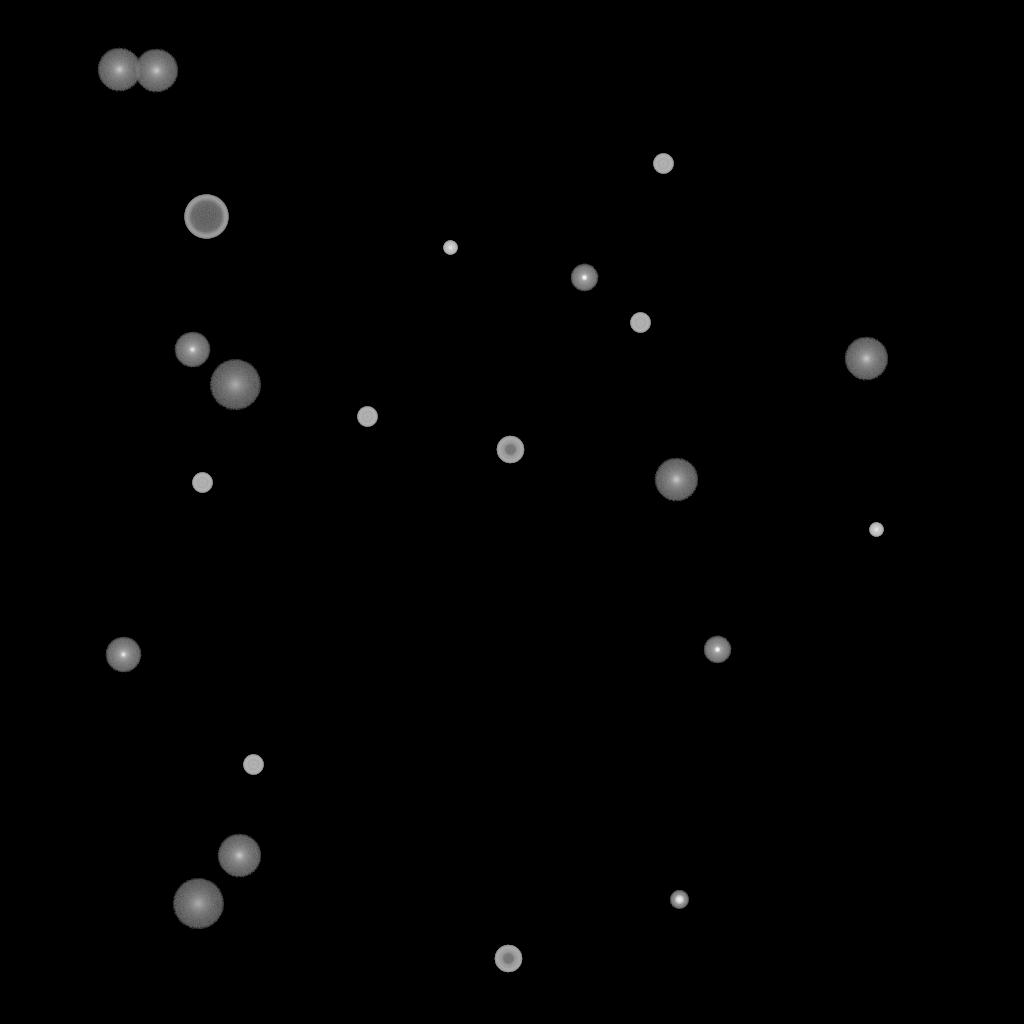depth:-10: (703, 636, 731, 664), (570, 264, 598, 292)
depth:-20: (670, 891, 688, 909)
depth:-30: (869, 523, 883, 537), (443, 241, 457, 255)
depth:-40: (630, 313, 650, 333), (243, 755, 263, 775), (357, 407, 377, 427), (653, 154, 673, 174), (192, 473, 212, 493)
depth:-50: (494, 945, 522, 973), (496, 436, 524, 464)
depth:-70: (184, 195, 228, 239)
depth:0: (174, 332, 210, 368), (105, 637, 141, 673)
depth:10: (217, 834, 261, 878), (97, 48, 141, 92), (844, 337, 888, 381), (654, 458, 698, 502), (134, 49, 178, 93)
depth:20: (172, 879, 224, 929), (209, 360, 261, 410)
